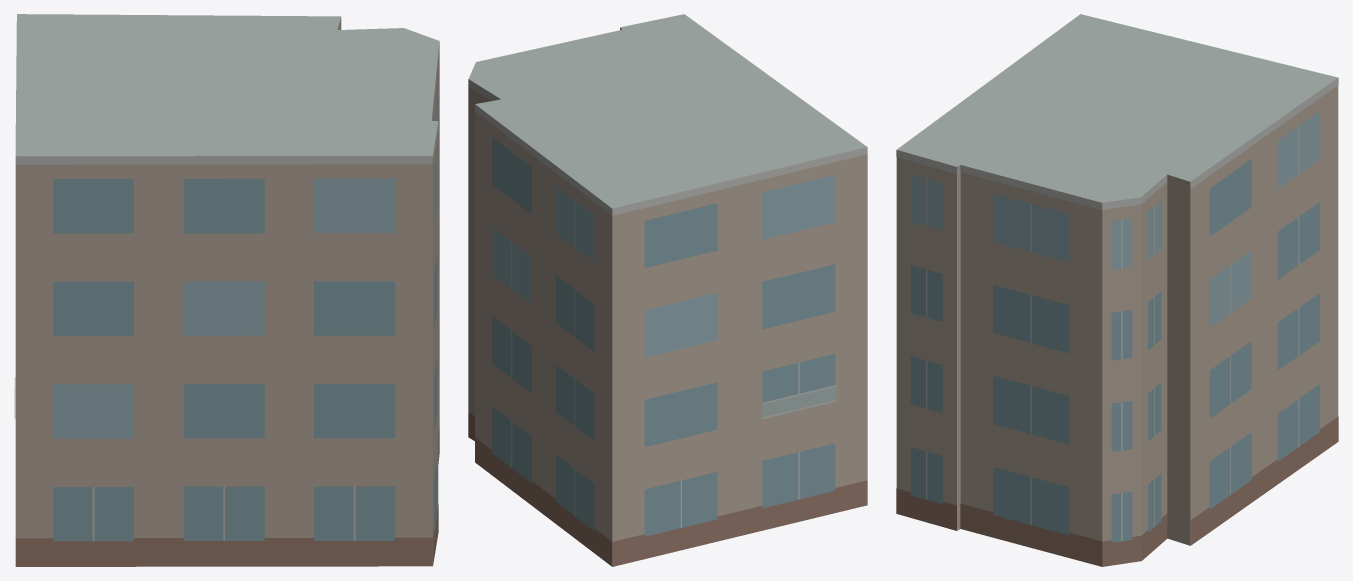
File: survey-upis-32654097.glb
The picture shows the model from 3 angles, left to right: view 1: azimuth 30°, elevation 25°; view 2: azimuth 150°, elevation 25°; view 3: azimuth 270°, elevation 25°; orthographic projection. The views are drawn at different scales.
Visible parts, largest first — view 1: survey-upis-32654097.tmp; view 2: survey-upis-32654097.tmp; view 3: survey-upis-32654097.tmp.
Part boxes in pixels (<box>): survey-upis-32654097.tmp: <box>14,14,439,566</box>; survey-upis-32654097.tmp: <box>468,14,867,566</box>; survey-upis-32654097.tmp: <box>896,14,1338,566</box>.
Size of the model in its own units: 13.58 by 12.2 by 13.44.
